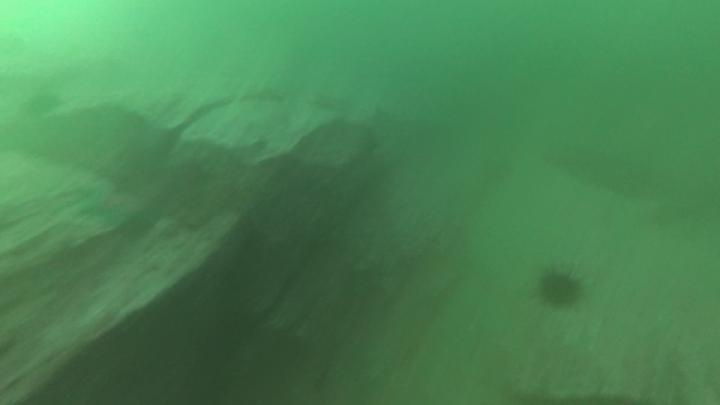echinus: (535, 264, 586, 312), (21, 87, 66, 122)
starfish: (75, 178, 149, 234)
